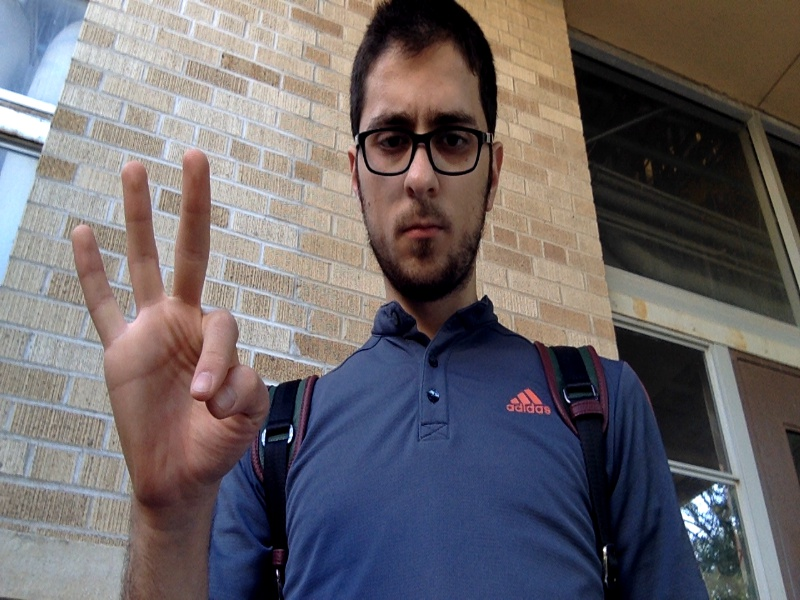3-hand: (72, 151, 268, 517)
